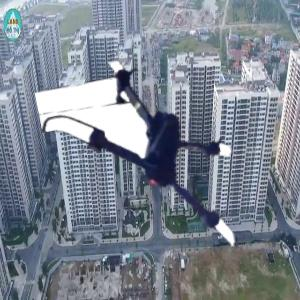drone: (51, 54, 267, 270)
